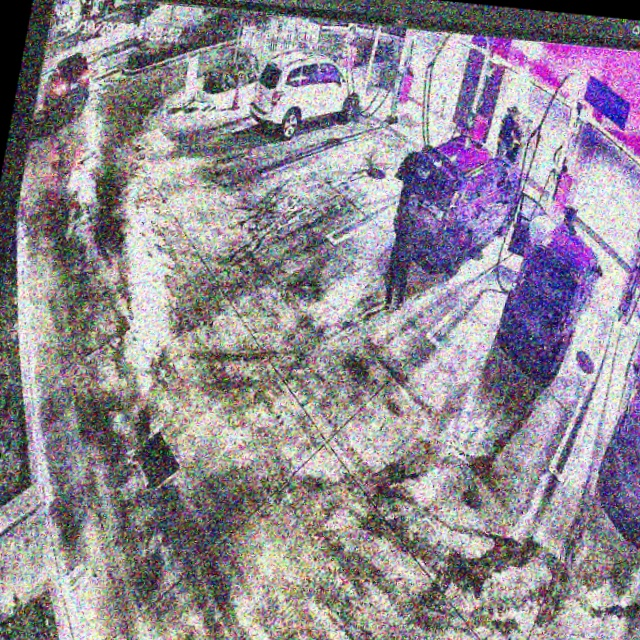Car: (385, 131, 529, 278)
